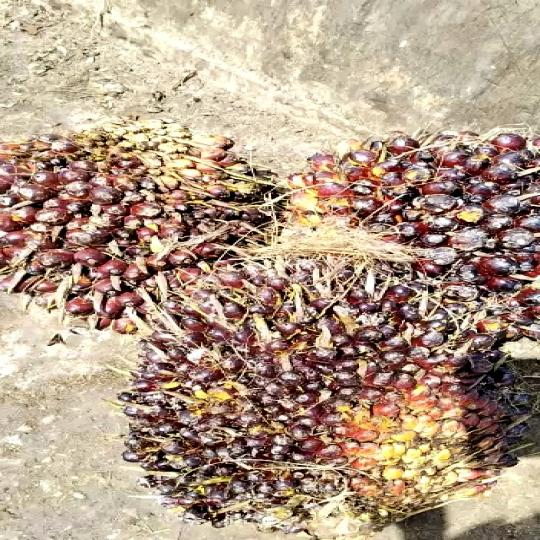kurang masak: (116, 250, 540, 516), (0, 119, 303, 338), (313, 130, 540, 282)
